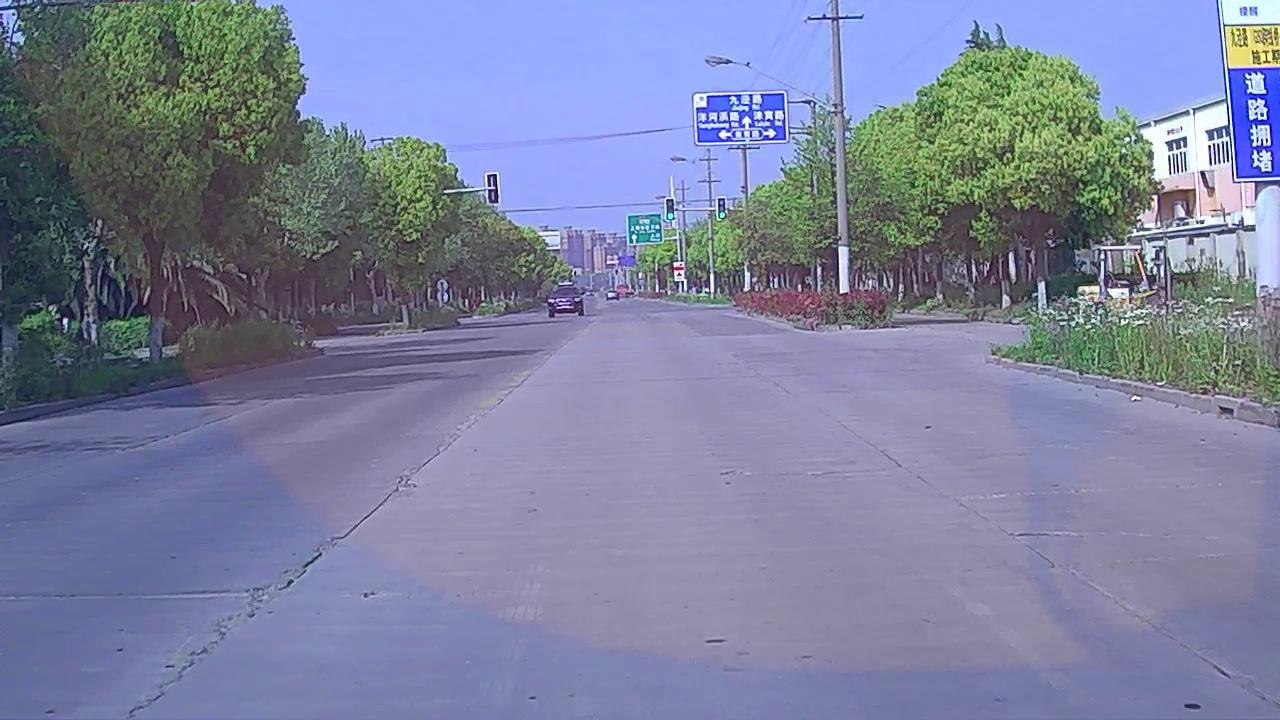traffic_light: (665, 197, 674, 220), (718, 197, 726, 219)
